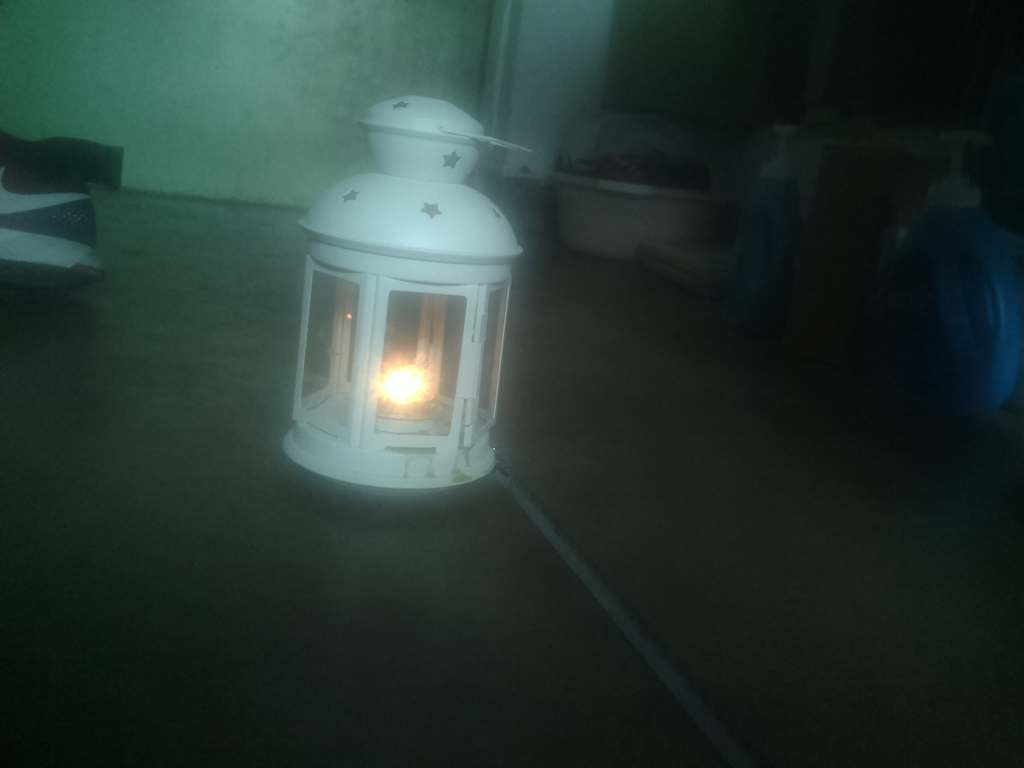fire: (355, 348, 483, 454)
